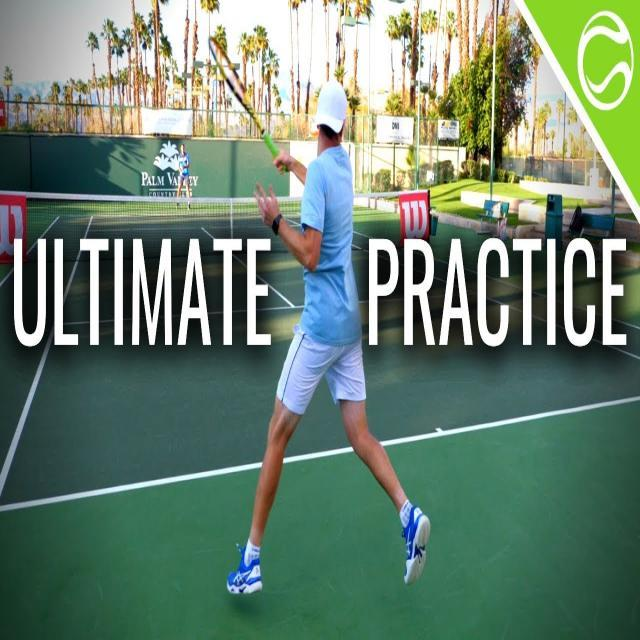court: (2, 242, 640, 556)
net: (0, 179, 441, 266)
player: (207, 27, 439, 604)
